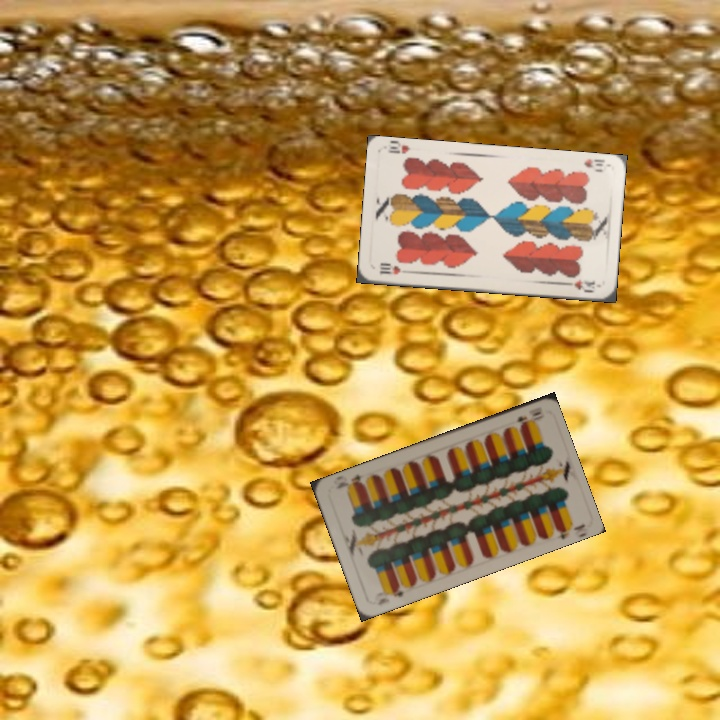E10: (513, 407, 546, 429), (382, 582, 406, 600)
H10: (376, 260, 403, 277), (580, 155, 607, 170)
